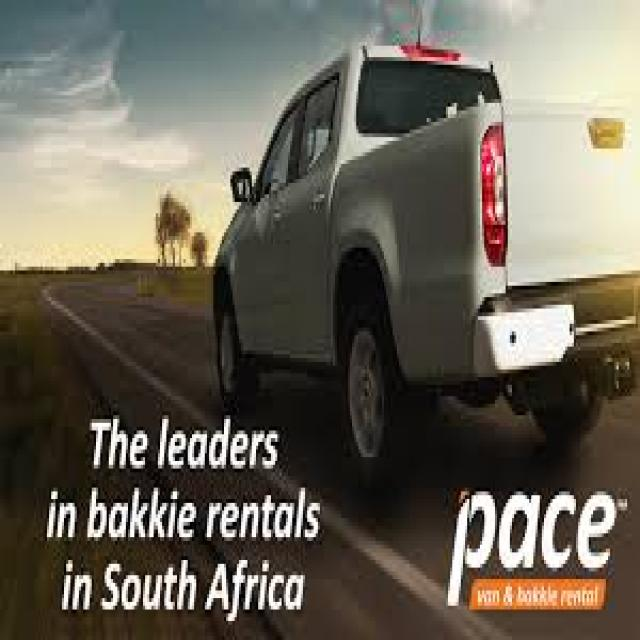Pickup Trucks: (211, 34, 640, 453)
